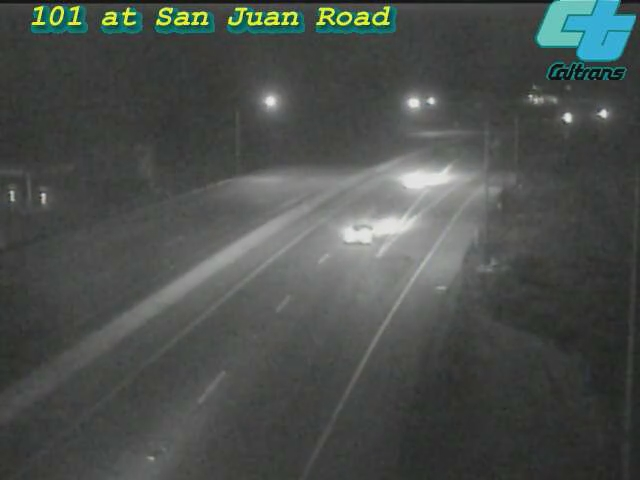vehicle: (379, 137, 459, 217), (320, 192, 400, 272), (542, 92, 592, 142), (577, 90, 627, 140)
